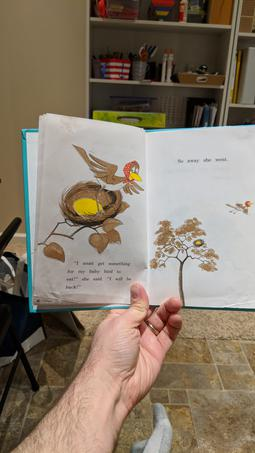text block: (59, 256, 132, 295), (173, 151, 231, 167)
